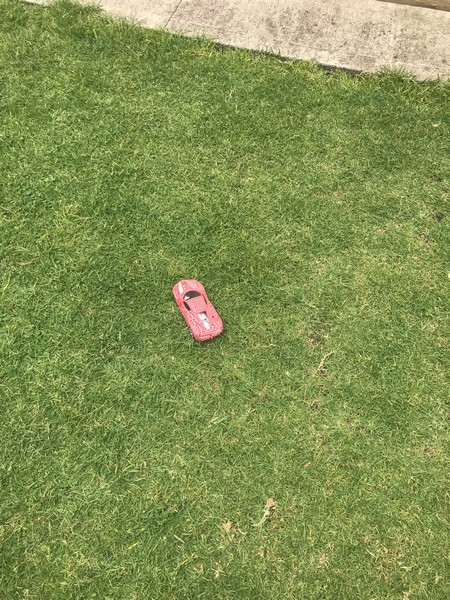RC: (171, 275, 225, 343)
